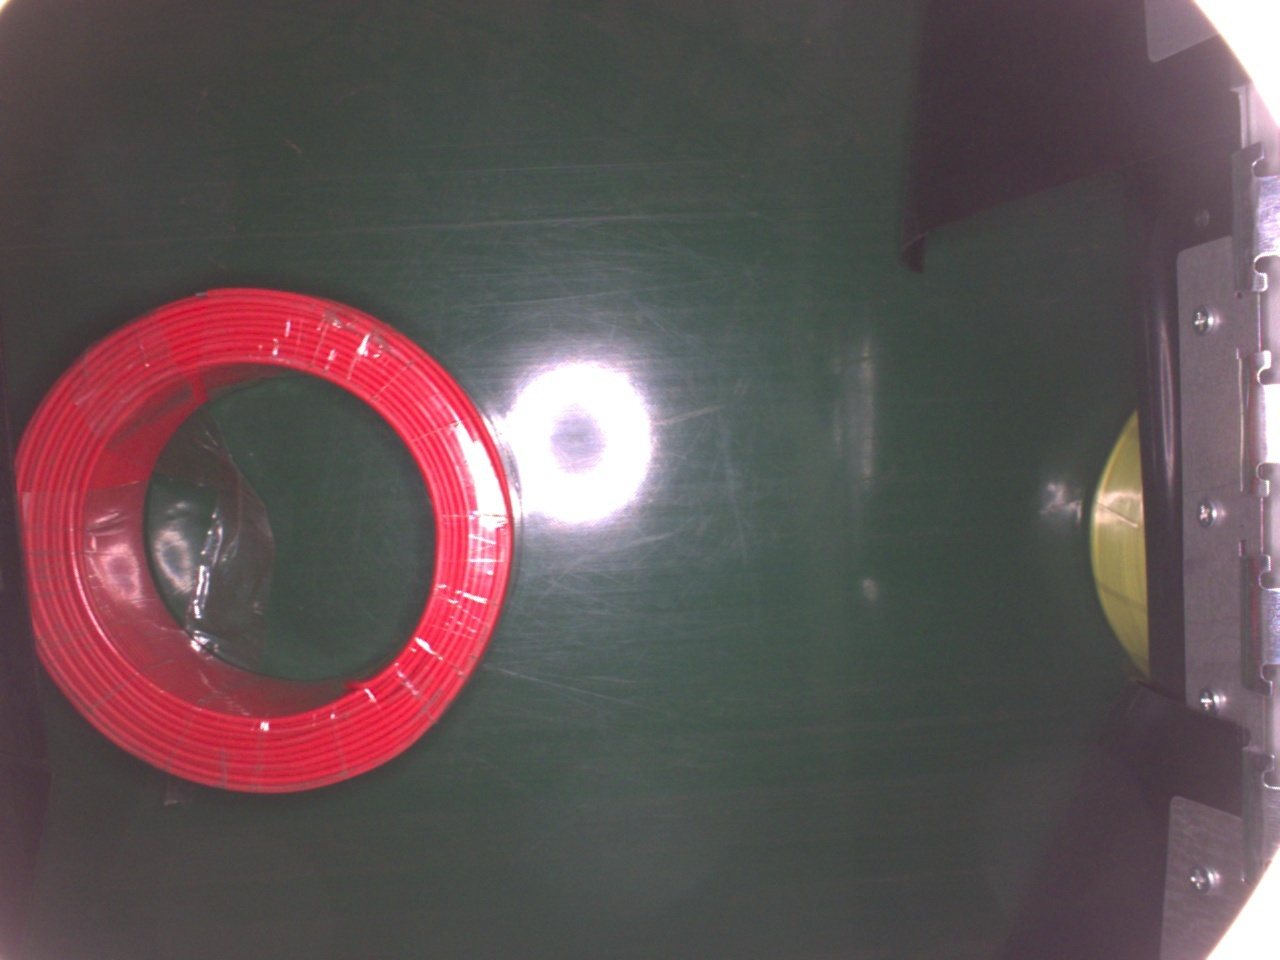red: (15, 291, 517, 797)
